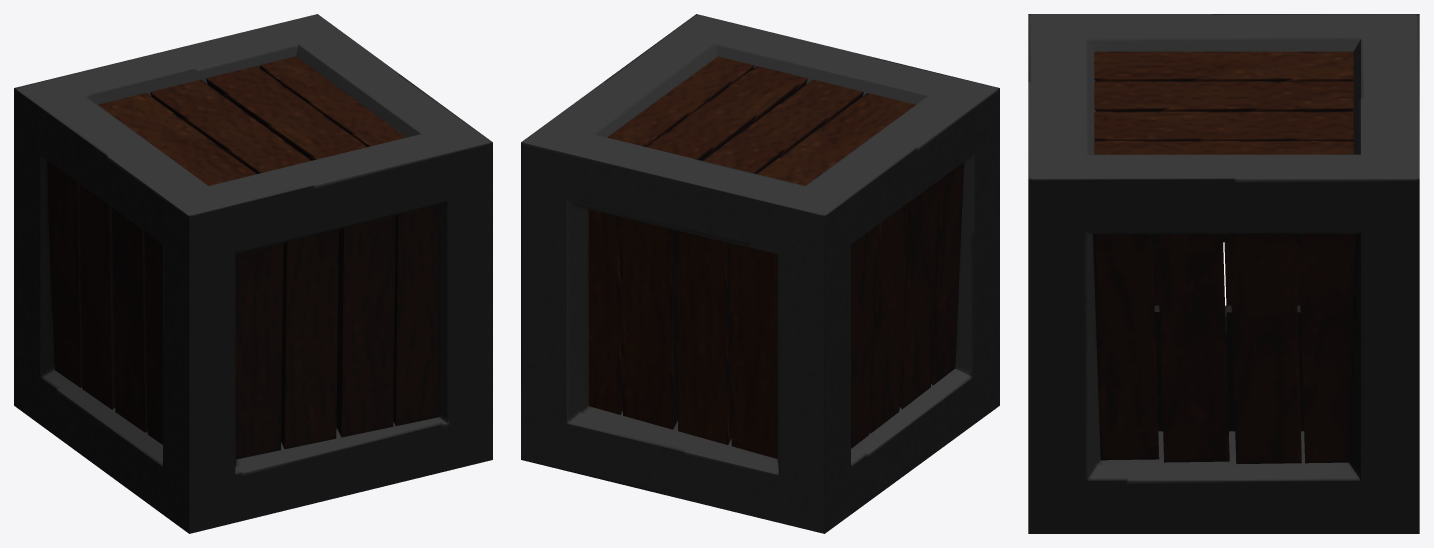
The model's file is Crate.fbx.
The picture shows the model from 3 angles, left to right: view 1: azimuth 30°, elevation 25°; view 2: azimuth 150°, elevation 25°; view 3: azimuth 270°, elevation 25°; orthographic projection. The views are drawn at different scales.
Visible parts, largest first — view 1: Crate; view 2: Crate; view 3: Crate.
Part boxes in pixels (left/top/right/bottom): Crate: left=14, top=14, right=492, bottom=533; Crate: left=521, top=14, right=999, bottom=533; Crate: left=1028, top=14, right=1419, bottom=533.
Size of the model in its own units: 538 by 538 by 538.
Materials: 2 (2 with a texture image).
